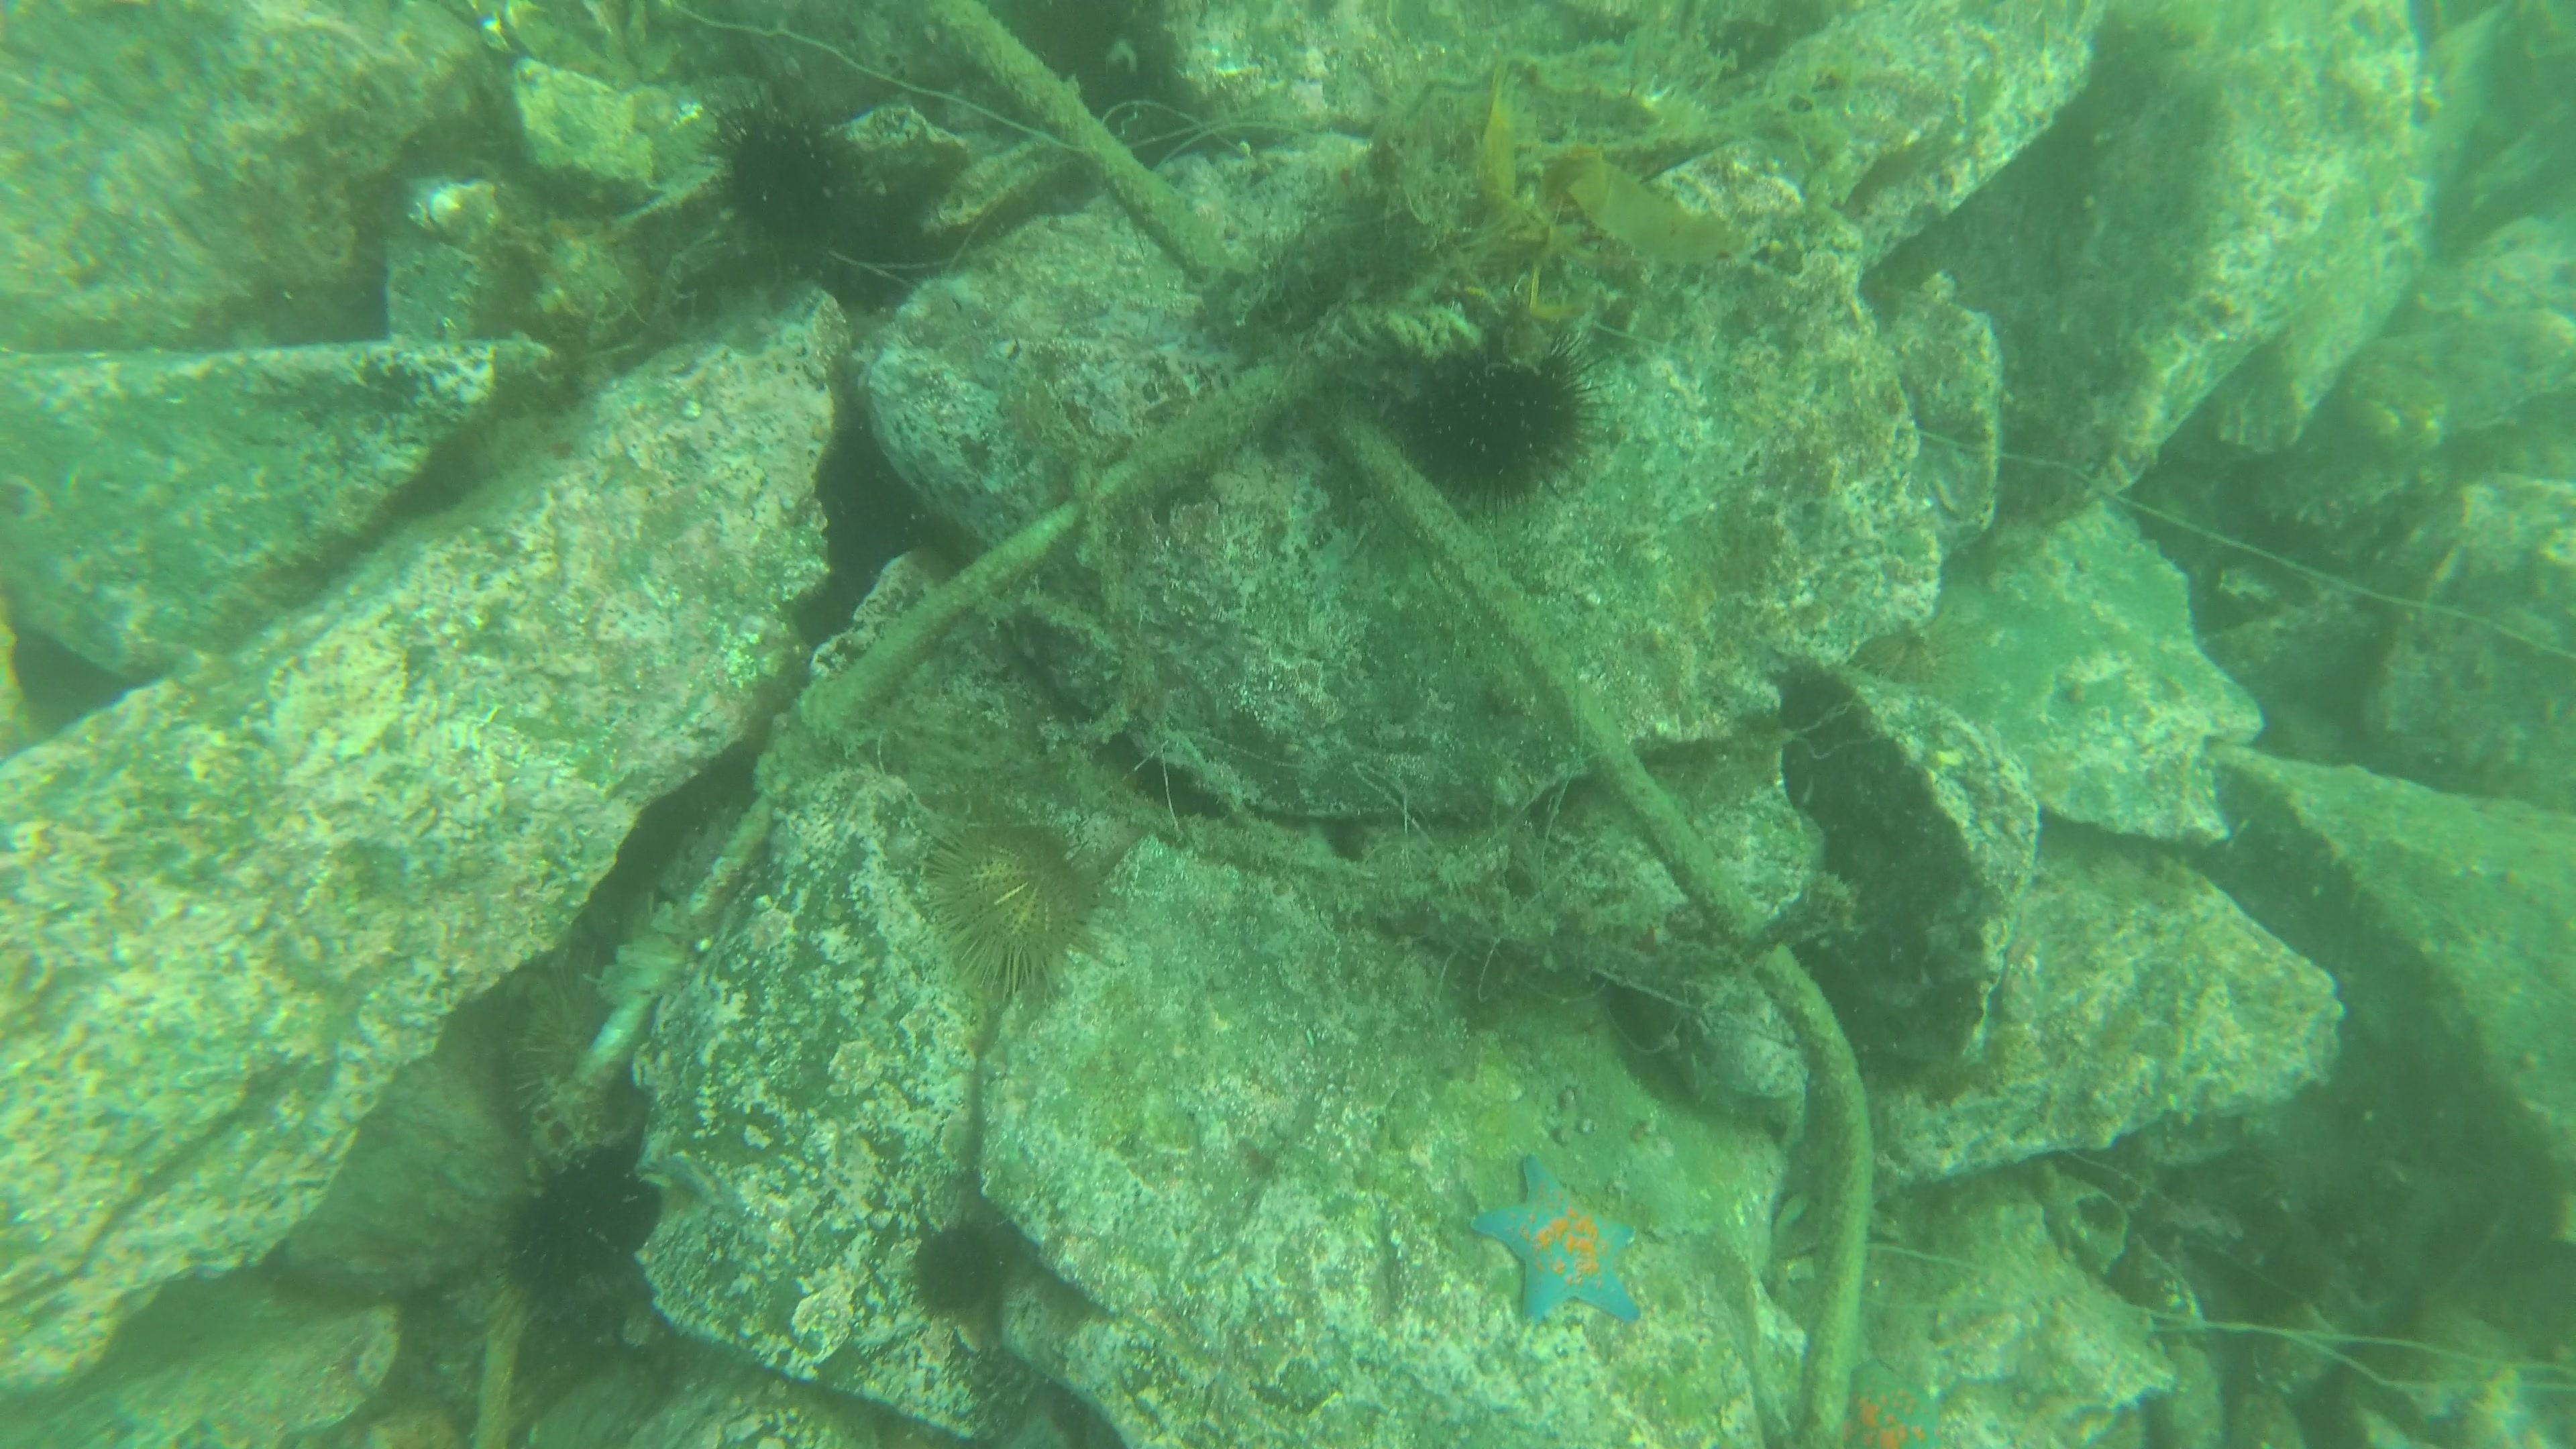echinus: (918, 801, 1122, 994), (1394, 340, 1606, 506), (697, 94, 862, 253), (508, 1155, 635, 1281), (909, 1215, 1005, 1320)
starfish: (1463, 1150, 1654, 1332), (1828, 1352, 1957, 1449)
